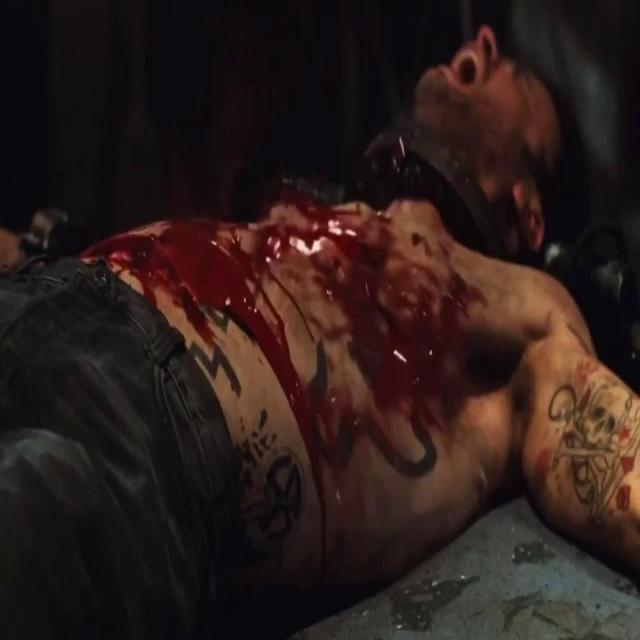flood: (80, 168, 499, 462)
